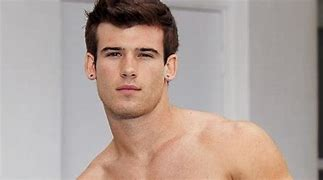person: (84, 1, 179, 123)
